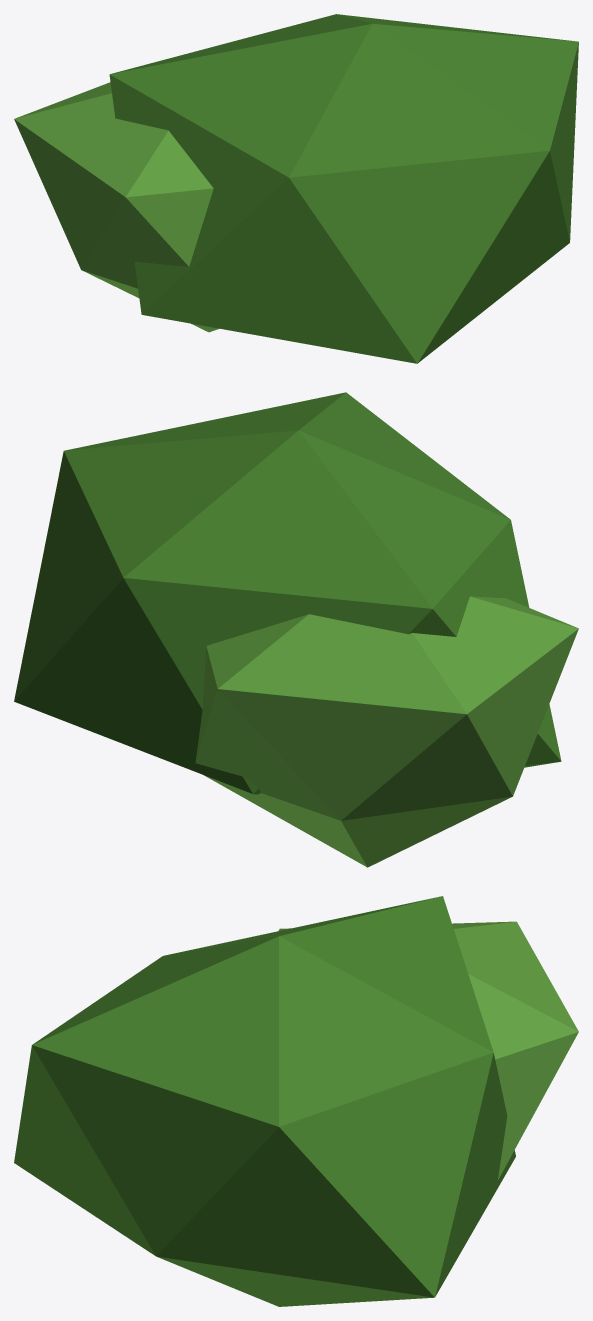
Rendered from HS_LP_Bush_Wide_01.fbx.
3 renders of one model, top to bottom at view 1: azimuth 30°, elevation 25°; view 2: azimuth 150°, elevation 25°; view 3: azimuth 270°, elevation 25°, orthographic. The views are drawn at different scales.
Visible parts, largest first — view 1: HS_LP_Bush_Wide_01; view 2: HS_LP_Bush_Wide_01; view 3: HS_LP_Bush_Wide_01.
Part boxes in pixels (x1,y1,x2,y2): HS_LP_Bush_Wide_01: [14, 14, 578, 363]; HS_LP_Bush_Wide_01: [14, 392, 578, 867]; HS_LP_Bush_Wide_01: [14, 896, 578, 1306].
Size of the model in its own units: 134 by 91.77 by 127.
